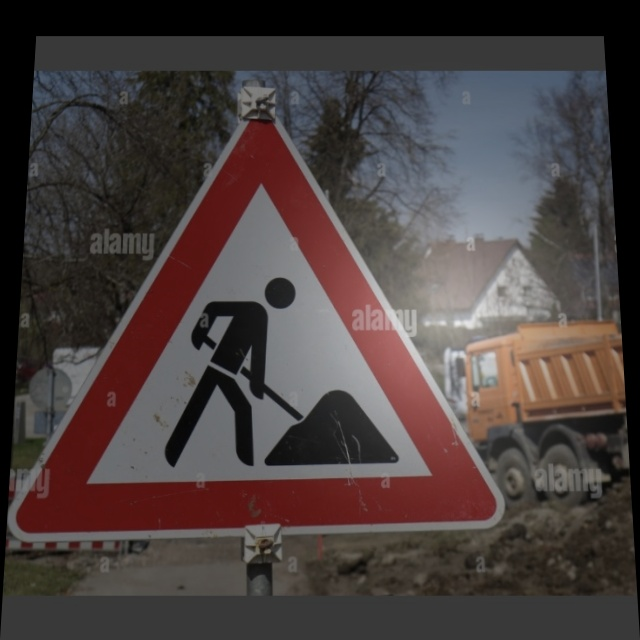Men_at_Work: (74, 126, 473, 518)
